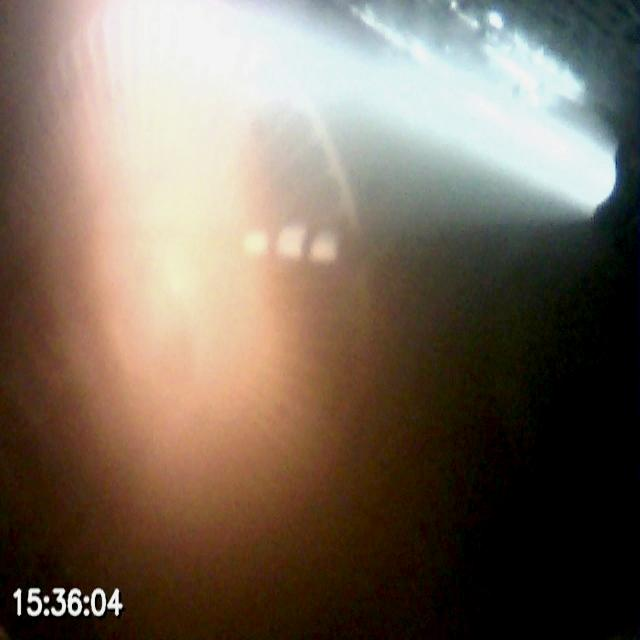white-dots: (240, 221, 340, 267)
